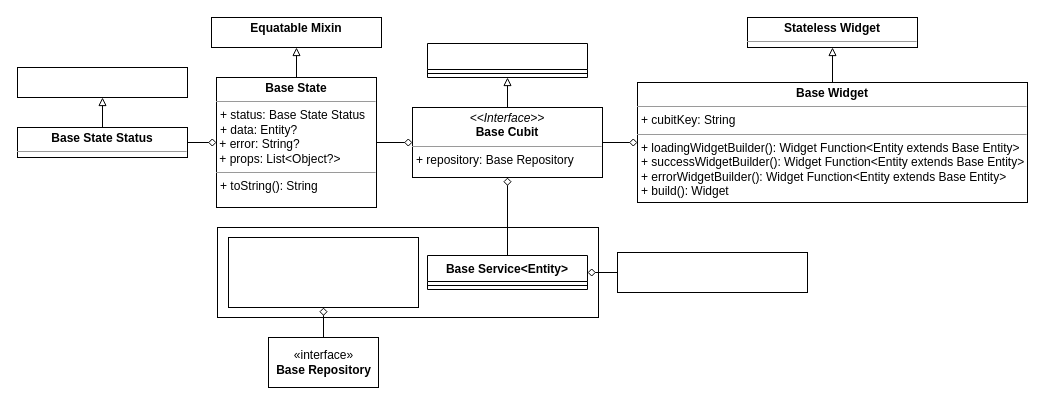
Image size: 1045x405. Some labels were removed from this diagram. The shapes that lost their labels are listed below. From the top down, each one's box as (x1, y1, x2, y2) in pixels, then its label:
(426, 42, 588, 78): Cubit
(16, 66, 188, 98): Enum
(228, 236, 418, 308): <<Interface>> Base Service + repository: Base Repository
(616, 252, 808, 292): <<Interface>> Base Entity
